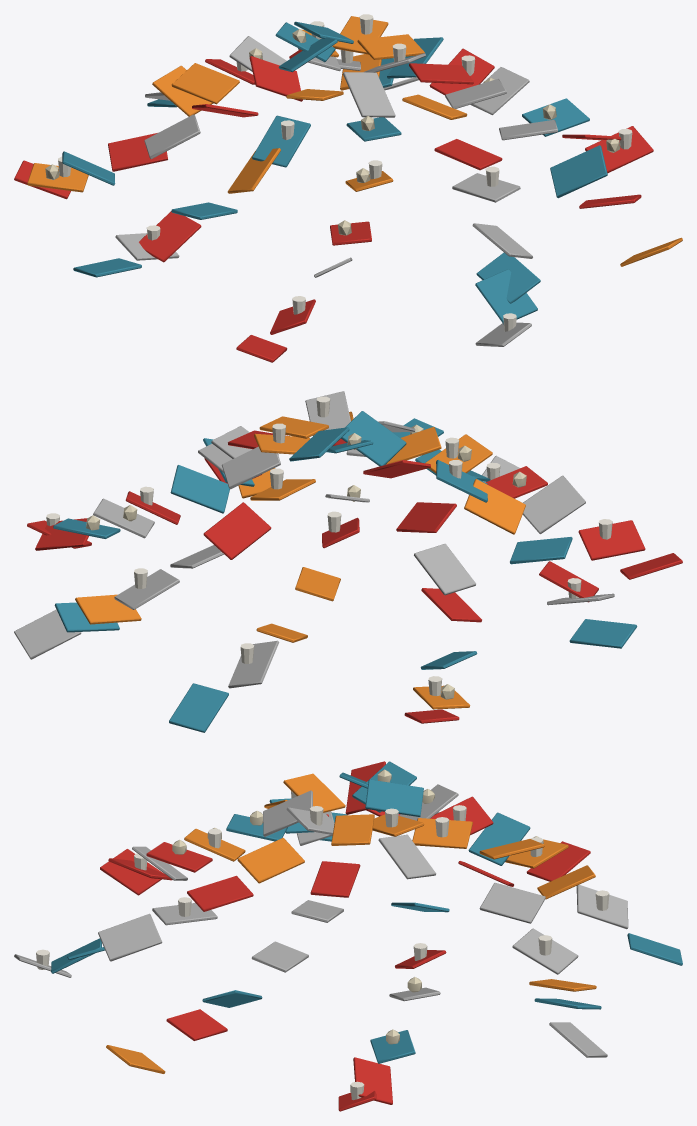
File: tray_mound.glb
3 renders of one model, top to bottom at view 1: azimuth 30°, elevation 25°; view 2: azimuth 150°, elevation 25°; view 3: azimuth 270°, elevation 25°, orthographic. The views are drawn at different scales.
Visible parts, largest first — view 1: tray_mound; view 2: tray_mound; view 3: tray_mound.
Boxes of the visible parts, bbox=[...] form: tray_mound: bbox=[14, 14, 682, 362]; tray_mound: bbox=[14, 391, 682, 732]; tray_mound: bbox=[14, 761, 682, 1111].
Bounding box in the file's own units: 9.35 × 3.16 × 9.57.
